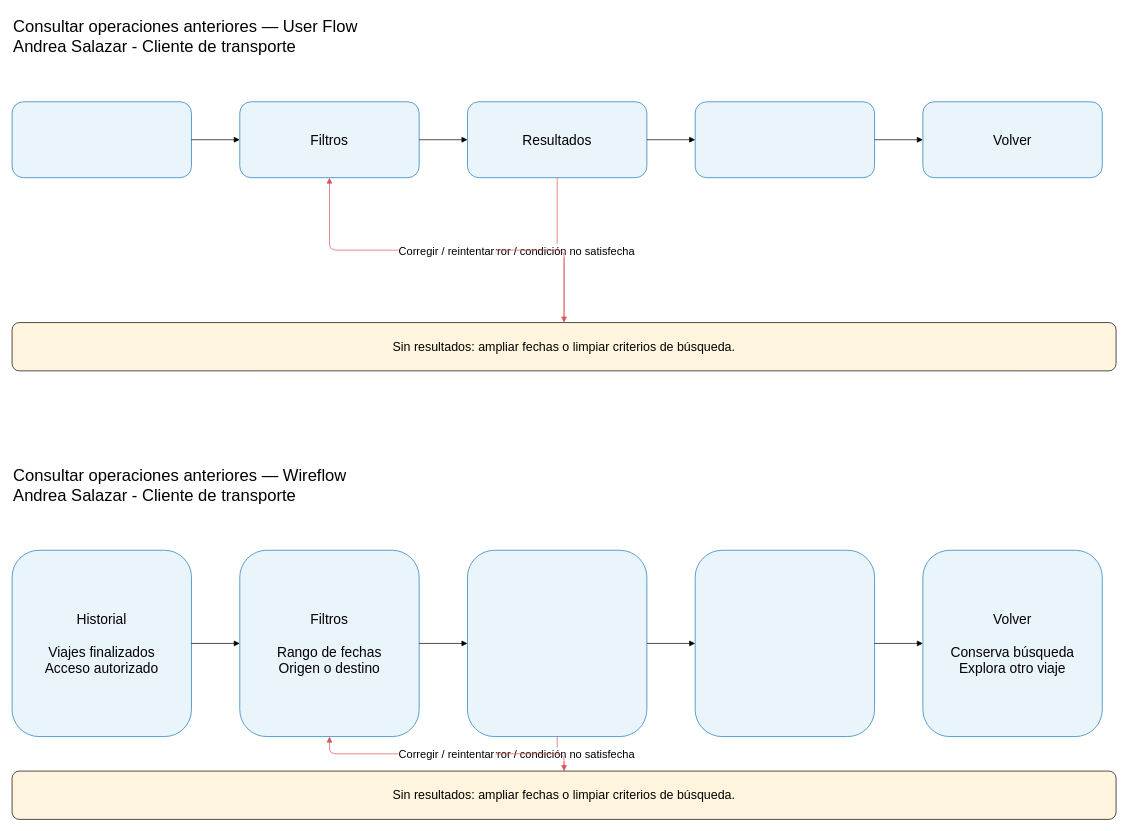
This 1128x831 diagram has some shape labels left out. The centre of each missing label's shape, as x and y in pixels:
"Detalle" goes at point (784, 139).
"Detalle Ruta y eventos Resultado final" goes at point (784, 643).
"Historial" goes at point (101, 139).
"Resultados Orden reciente Resumen por viaje" goes at point (557, 643).
